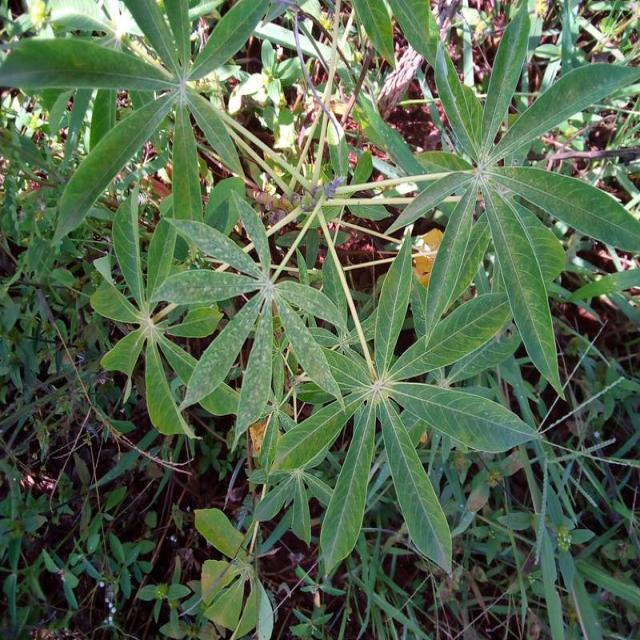cassava leaf: (358, 1, 640, 402), (150, 192, 348, 448)
